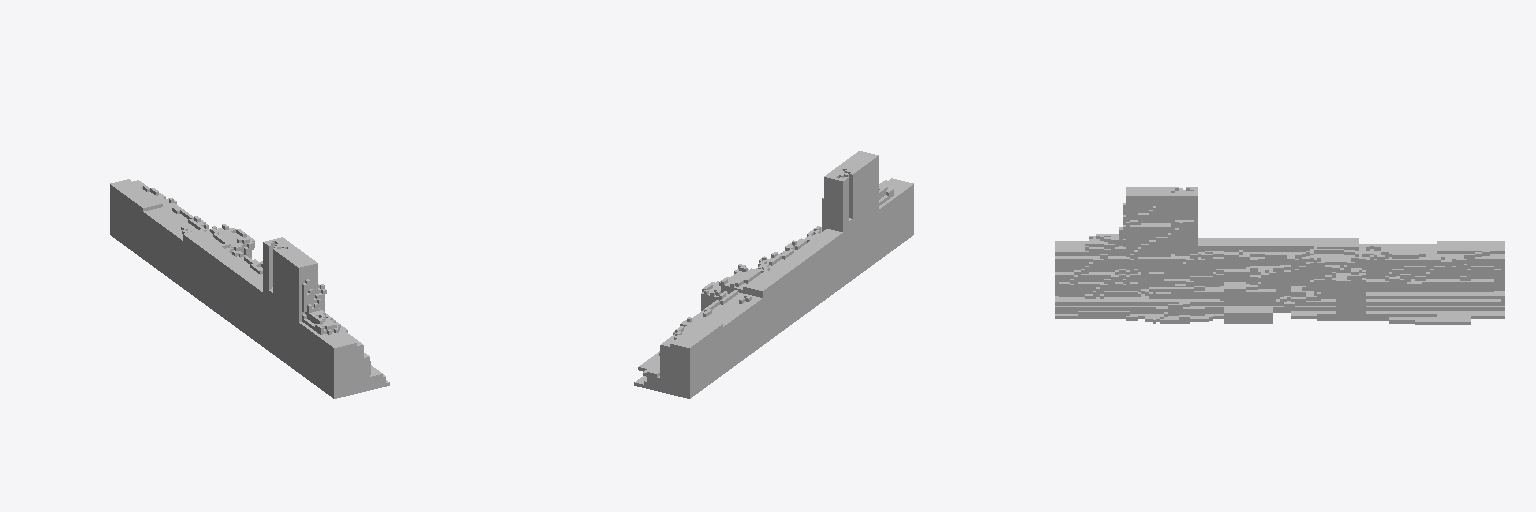
File: wall.obj
The picture shows the model from 3 angles: view 1: azimuth 30°, elevation 25°; view 2: azimuth 150°, elevation 25°; view 3: azimuth 270°, elevation 25°; orthographic projection.
Bounding box in the file's own units: 21 × 31 × 120.